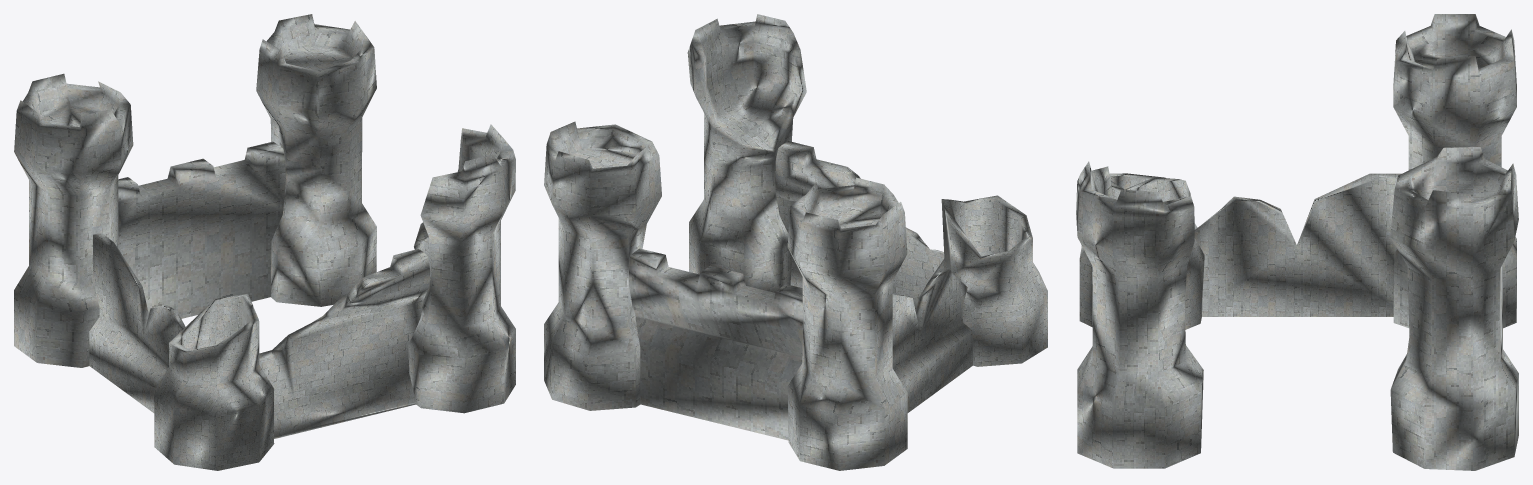
The model's file is castle.obj.
3 views of the same model, side by side, from view 1: azimuth 30°, elevation 25°; view 2: azimuth 150°, elevation 25°; view 3: azimuth 270°, elevation 25° (orthographic). The views are drawn at different scales.
Parts seen in each view (by area): view 1: devastated_castle.3ds.002; view 2: devastated_castle.3ds.002; view 3: devastated_castle.3ds.002.
Part boxes in pixels (x1,y1,x2,y2): devastated_castle.3ds.002: (14,14,515,470); devastated_castle.3ds.002: (544,14,1047,470); devastated_castle.3ds.002: (1076,14,1518,470).
Bounding box in the file's own units: 224 × 154 × 226.
Materials: 1 (1 with a texture image).
